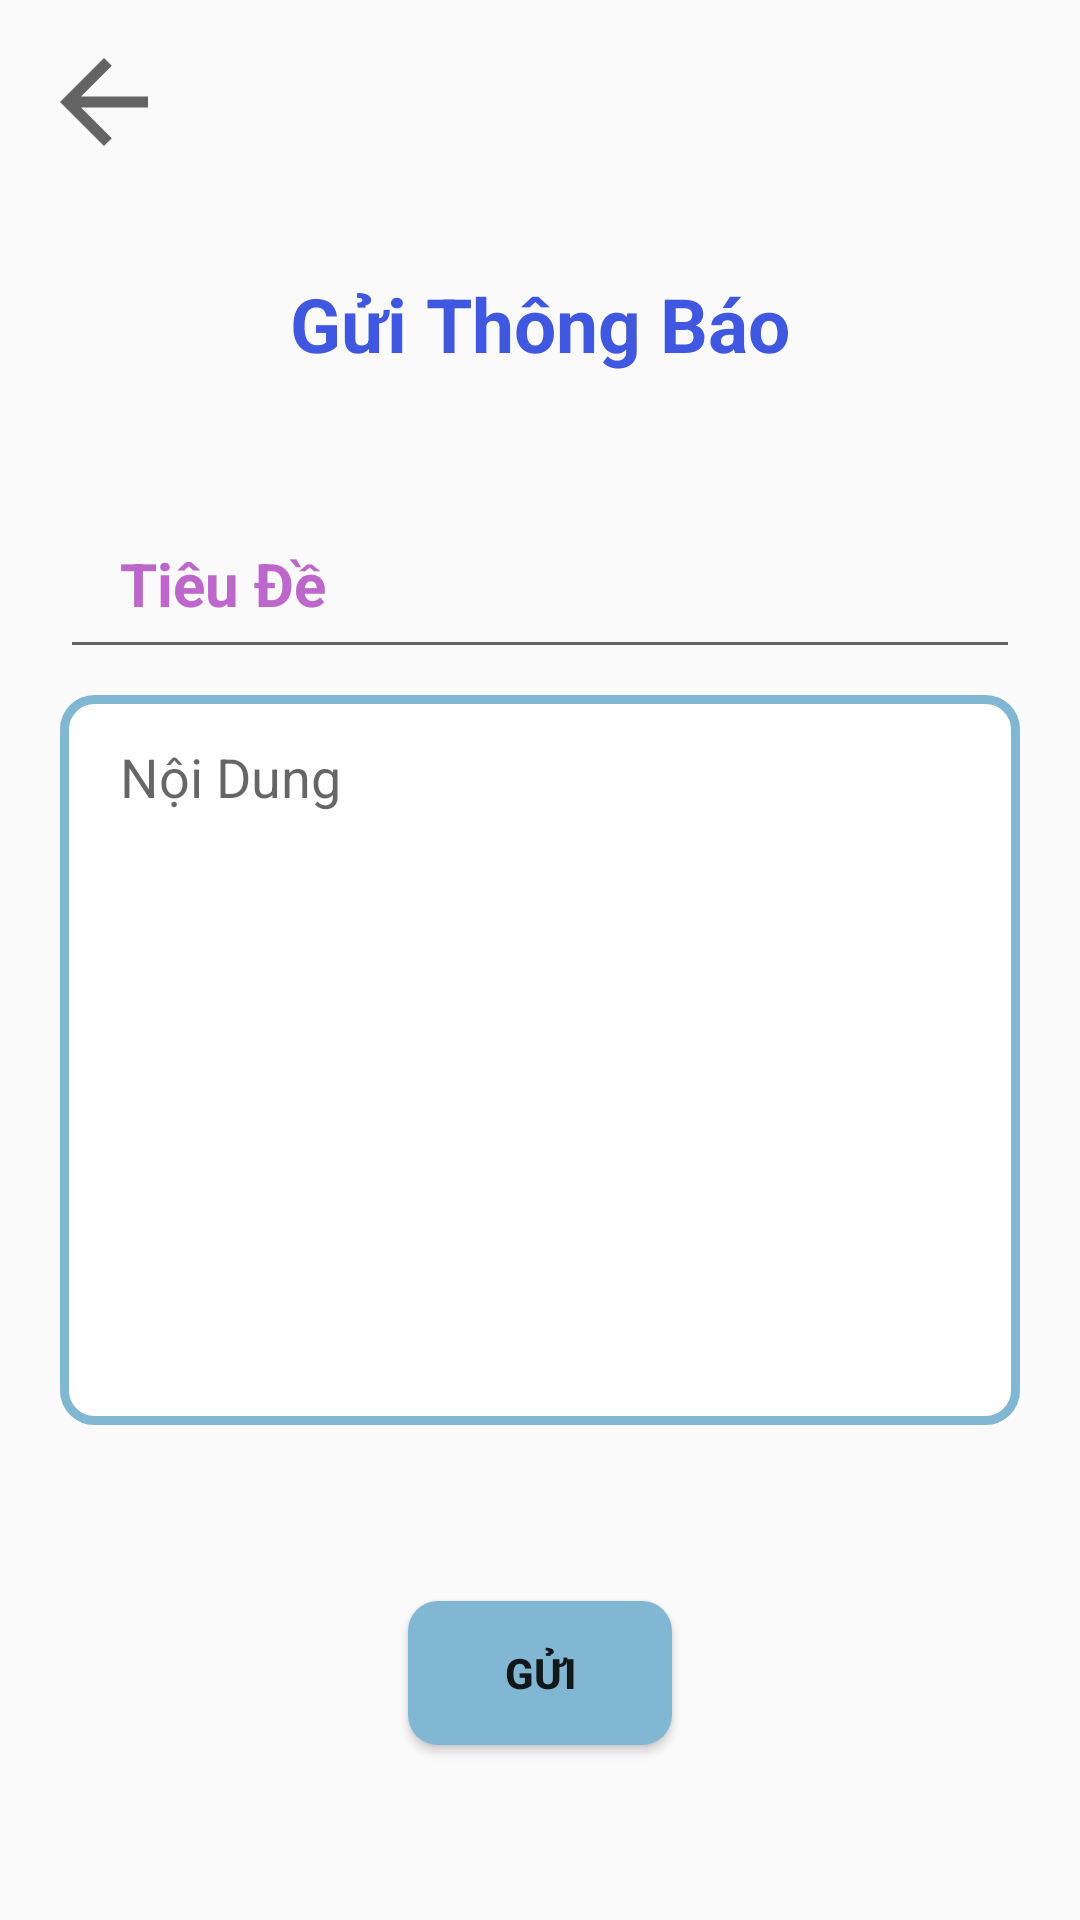

Where icons sit on this 1080 x 1920 app screen, as [x1, y1, x2, y2]:
back: [60, 58, 148, 146]
